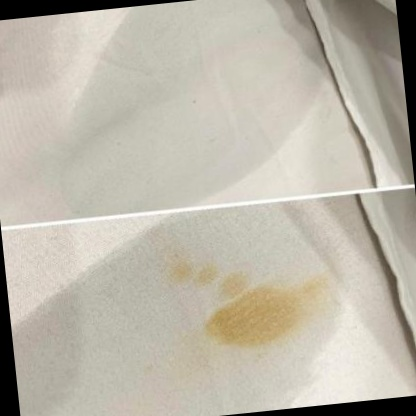coffee: (206, 294, 301, 346), (220, 274, 248, 295)
